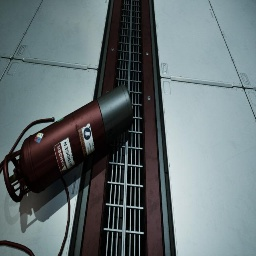NitrogenTank ,: (3, 84, 133, 203)
